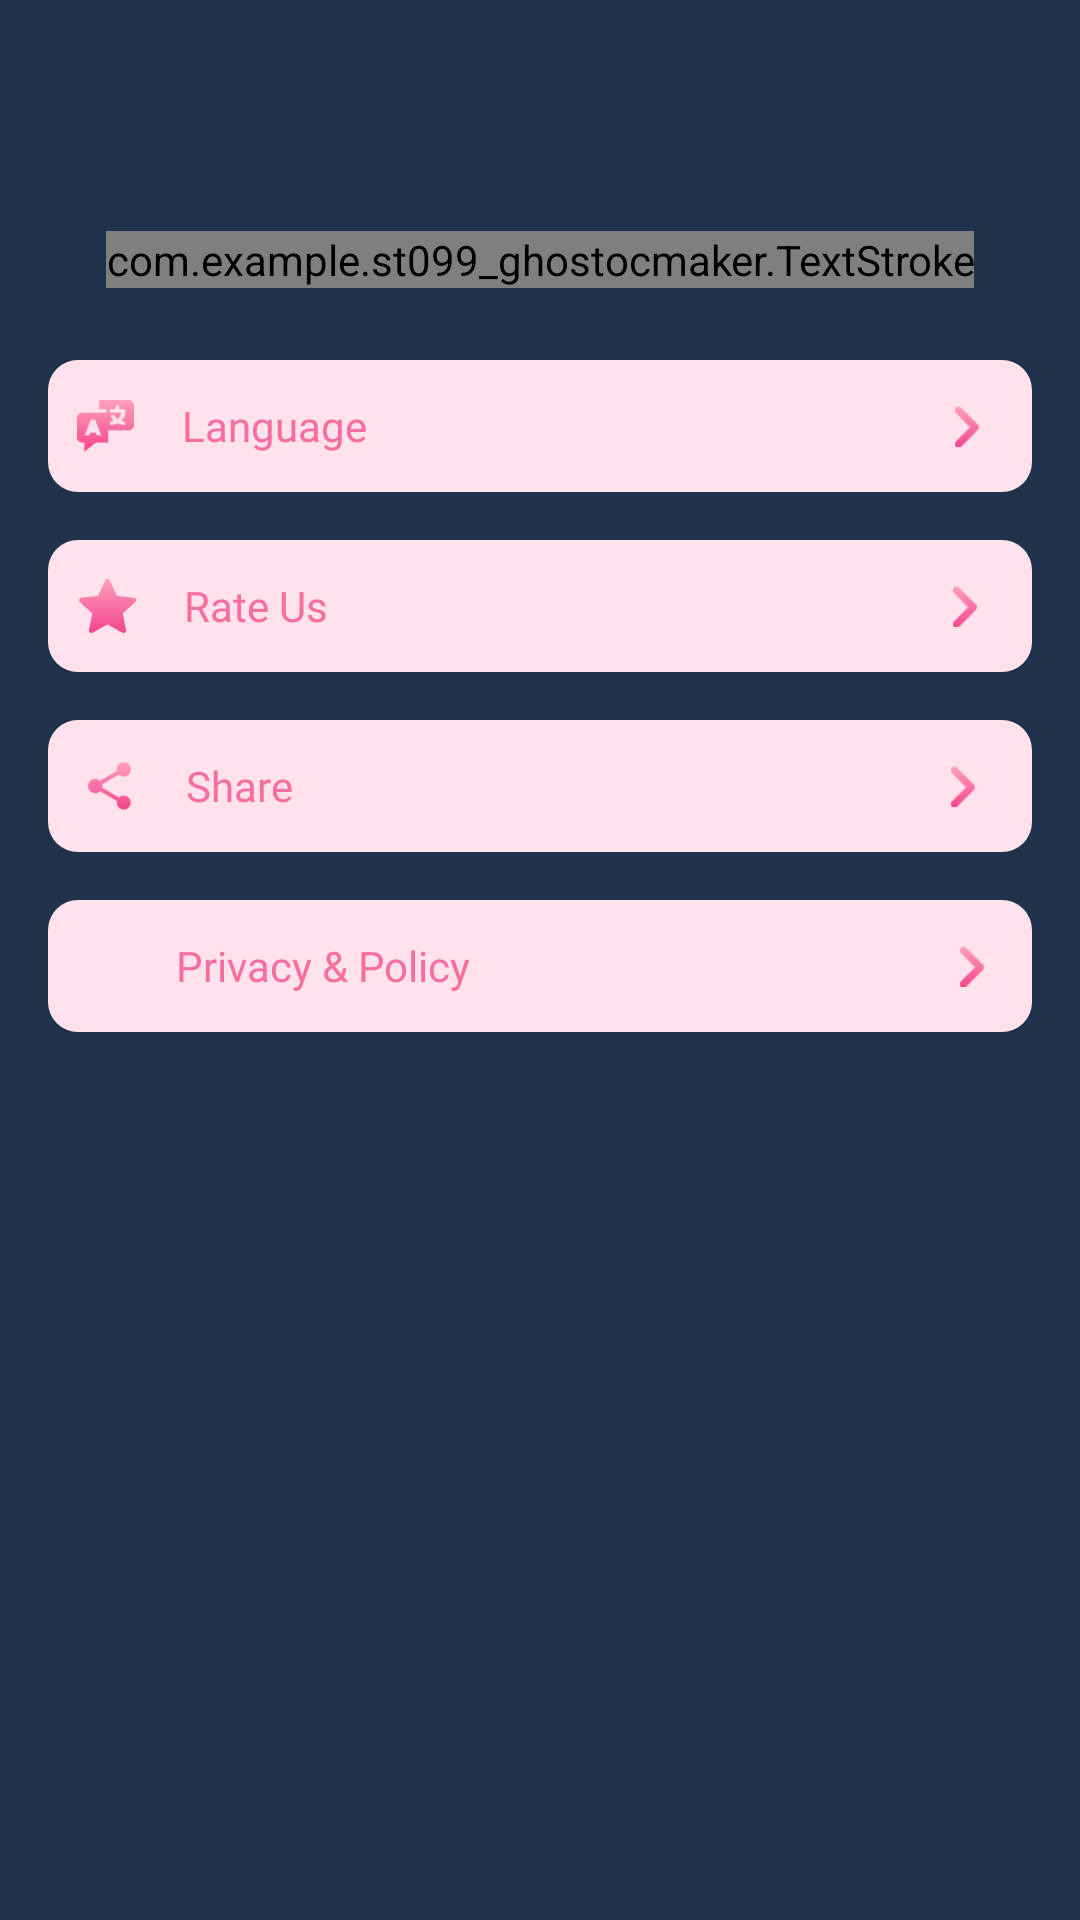

Where icons sit on this 1080x1920 app screen, as (x1, y1, x2, y2):
right: (955, 406, 979, 447), (953, 586, 977, 627), (951, 766, 975, 807), (960, 946, 984, 987)
settingstar: (79, 579, 136, 633)
